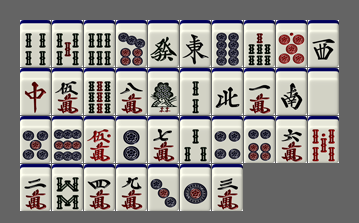0m: (84, 116, 115, 163)
0p: (276, 20, 307, 67)
0s: (308, 116, 339, 163)
1m: (244, 68, 275, 115)
1p: (180, 164, 211, 211)
1s: (148, 68, 179, 115)
1z: (180, 20, 211, 67)
2m: (20, 164, 51, 211)
2p: (116, 116, 147, 163)
2s: (180, 68, 211, 115)
2z: (276, 68, 307, 115)
3m: (212, 164, 243, 211)
3p: (148, 164, 179, 211)
3s: (180, 116, 211, 163)
3z: (308, 20, 339, 67)
4m: (84, 164, 115, 211)
4p: (212, 116, 243, 163)
4s: (20, 20, 51, 67)
4z: (212, 68, 243, 115)
5m: (52, 68, 83, 115)
5p: (20, 116, 51, 163)
5s: (52, 20, 83, 67)
5z: (308, 68, 339, 115)
6m: (276, 116, 307, 163)
6p: (244, 116, 275, 163)
6s: (84, 20, 115, 67)
6z: (148, 20, 179, 67)
7m: (148, 116, 179, 163)
7p: (116, 20, 147, 67)
7s: (244, 20, 275, 67)
7z: (20, 68, 51, 115)
8m: (116, 68, 147, 115)
8p: (212, 20, 243, 67)
8s: (52, 164, 83, 211)
9m: (116, 164, 147, 211)
9p: (52, 116, 83, 163)
9s: (84, 68, 115, 115)
